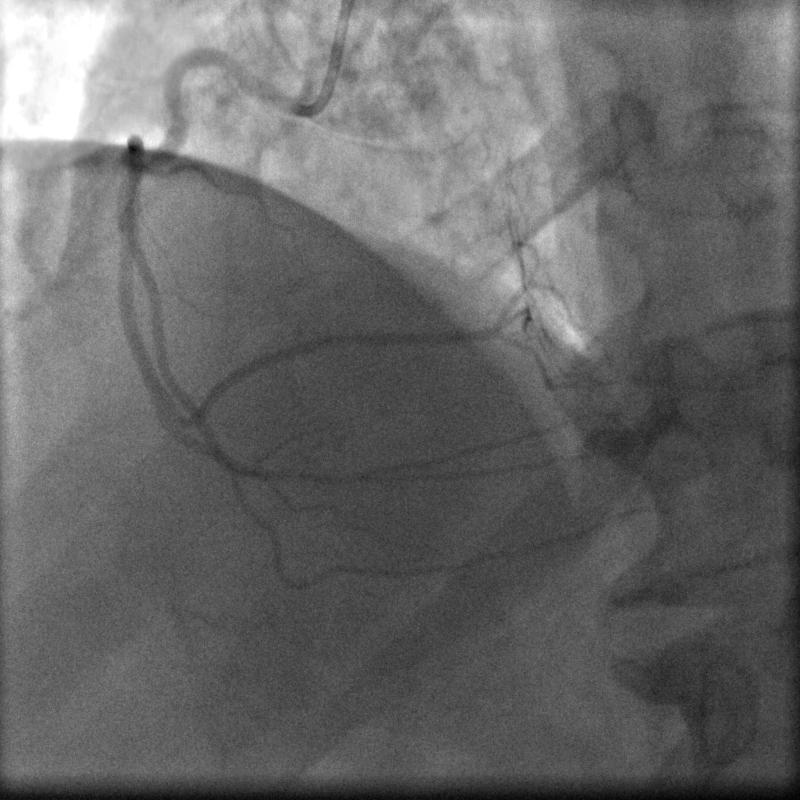Stenosis: (162, 101, 191, 126)
